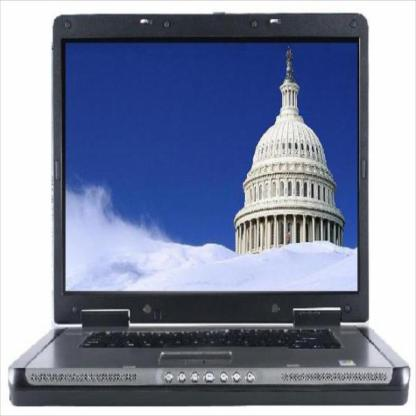board: (6, 14, 388, 416)
